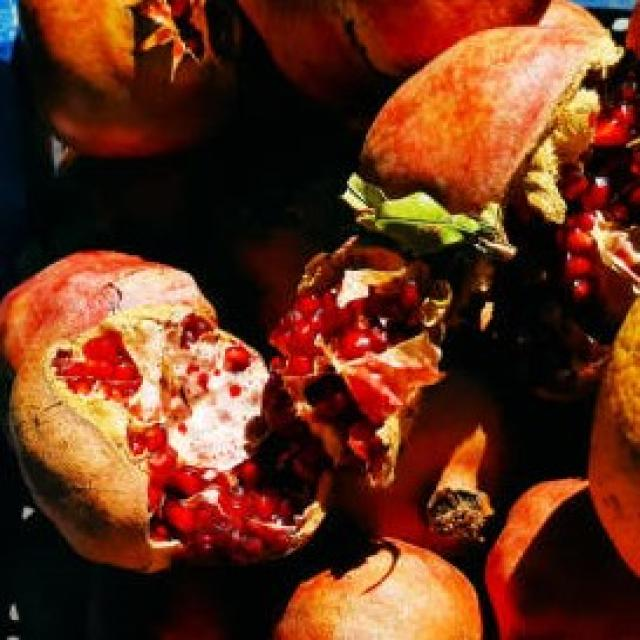overripe: (14, 248, 457, 587)
